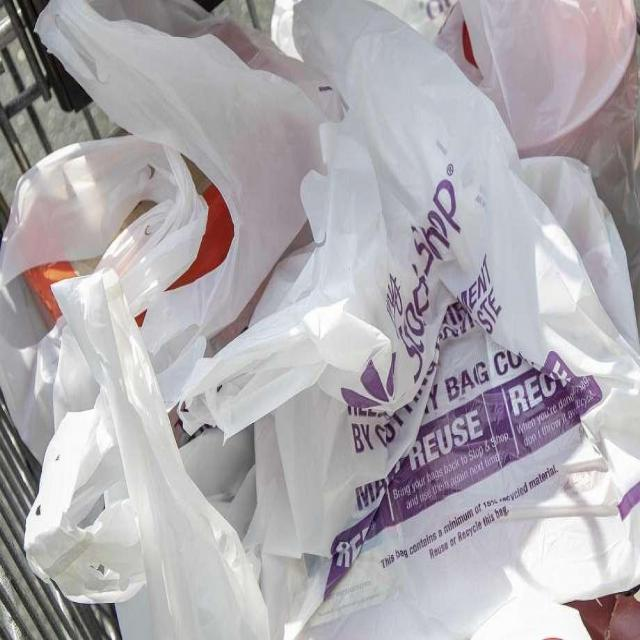plastic_bag: (191, 1, 640, 634), (19, 269, 256, 640)
